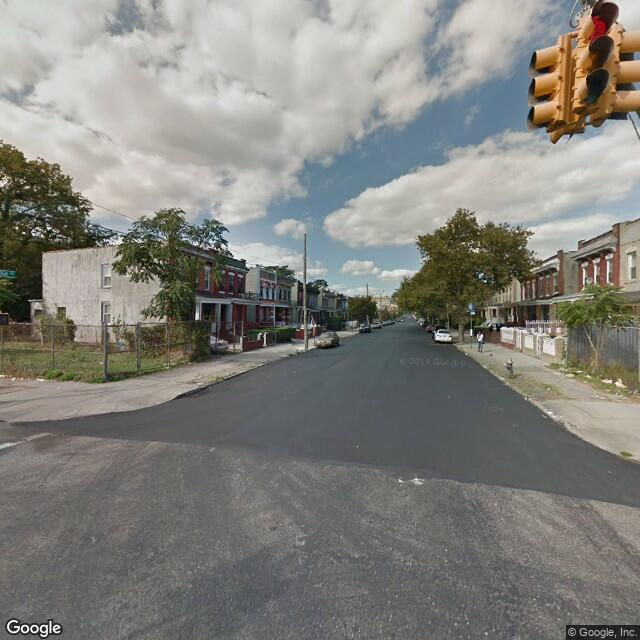litter: (614, 379, 626, 389), (10, 375, 25, 380), (37, 376, 48, 382), (602, 379, 612, 382), (587, 376, 591, 381), (577, 371, 583, 373), (198, 381, 203, 383)
